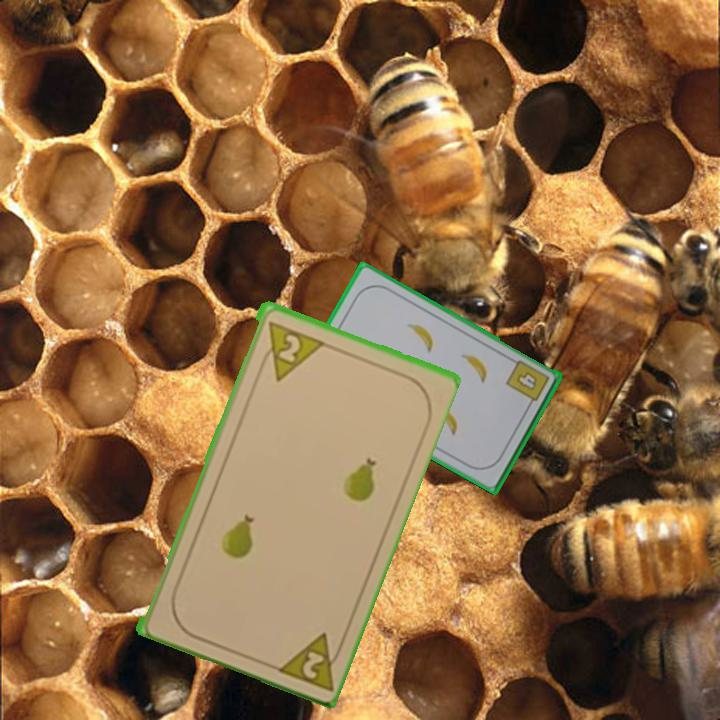2p: (270, 627, 348, 693), (256, 316, 325, 383)
4b: (502, 356, 552, 410)
